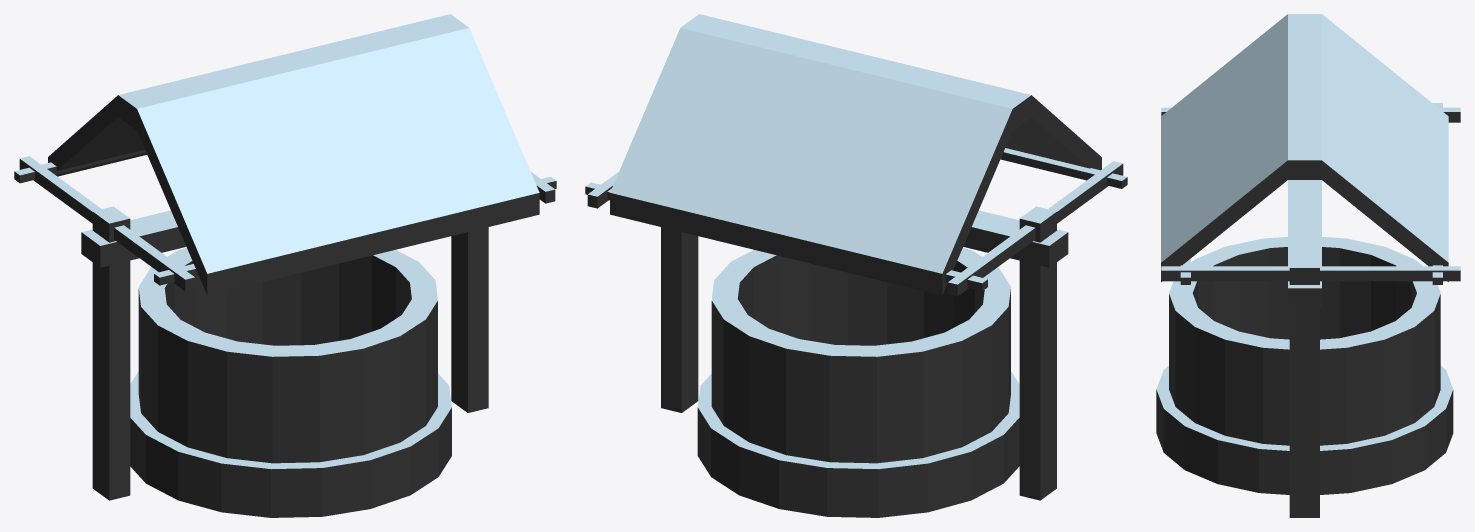
The model's file is model_polytope_snow_well.fbx.
3 views of the same model, side by side, from view 1: azimuth 30°, elevation 25°; view 2: azimuth 150°, elevation 25°; view 3: azimuth 270°, elevation 25° (orthographic). The views are drawn at different scales.
Visible parts, largest first — view 1: model_polytope_snow_well; view 2: model_polytope_snow_well; view 3: model_polytope_snow_well.
Part boxes in pixels (bbox=[...]): model_polytope_snow_well: bbox=[14, 14, 556, 517]; model_polytope_snow_well: bbox=[585, 14, 1127, 517]; model_polytope_snow_well: bbox=[1156, 14, 1460, 517].
Bounding box in the file's own units: 281 × 261 × 206.
1 material, 1 textured.
